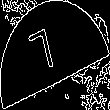L_S: (39, 26, 71, 84)
